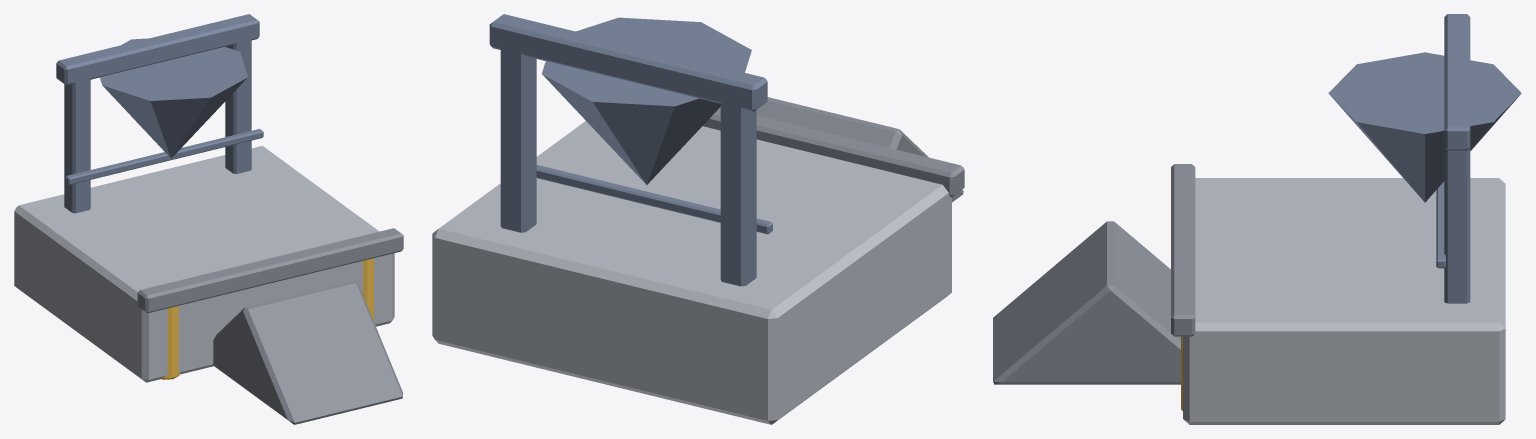
The model's file is SM_Building_LoadingDock.fbx.
3 renders of one model, left to right at view 1: azimuth 30°, elevation 25°; view 2: azimuth 150°, elevation 25°; view 3: azimuth 270°, elevation 25°, orthographic. The views are drawn at different scales.
Parts seen in each view (by area): view 1: SM_Building_LoadingDock; view 2: SM_Building_LoadingDock; view 3: SM_Building_LoadingDock.
Part boxes in pixels (<box>): SM_Building_LoadingDock: <box>14,14,403,424</box>; SM_Building_LoadingDock: <box>432,14,964,424</box>; SM_Building_LoadingDock: <box>993,14,1521,424</box>.
Size of the model in its own units: 2.25 by 1.94 by 3.28.
